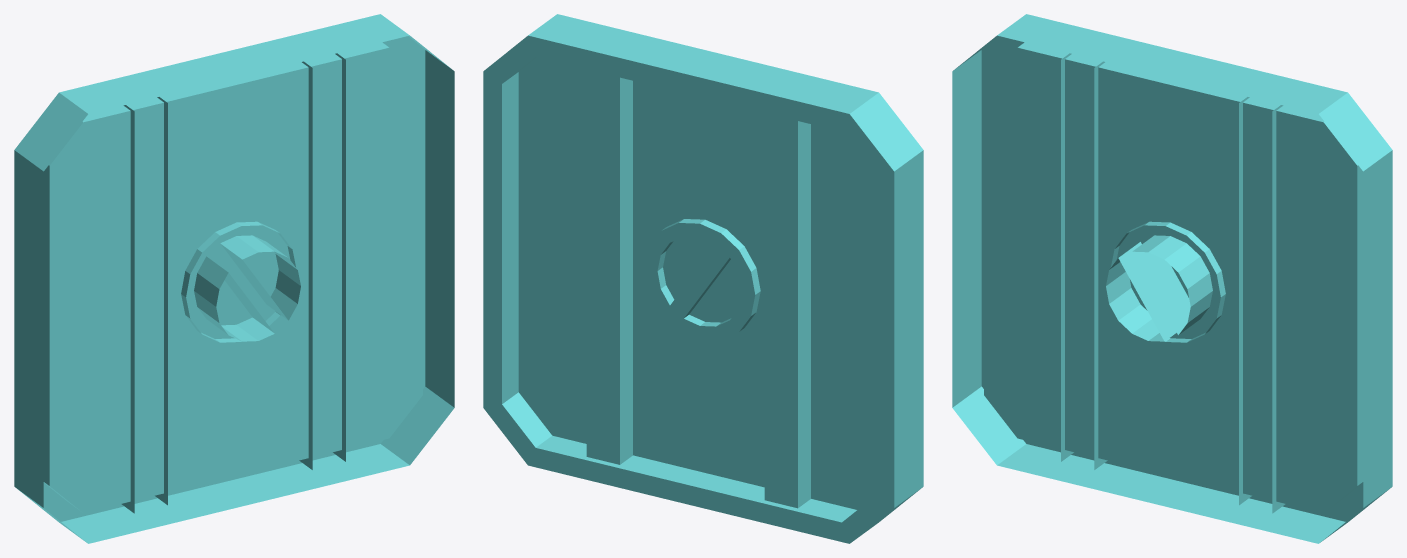
Rendered from cratefront_2m.glb.
3 renders of one model, left to right at view 1: azimuth 30°, elevation 25°; view 2: azimuth 150°, elevation 25°; view 3: azimuth 330°, elevation 25°, orthographic.
Parts seen in each view (by area): view 1: cratefront_2m; view 2: cratefront_2m; view 3: cratefront_2m.
Part boxes in pixels (x1,y1,x2,y2): cratefront_2m: (14, 14, 454, 543); cratefront_2m: (483, 14, 923, 543); cratefront_2m: (952, 14, 1392, 543).
Bounding box in the file's own units: 2 × 2 × 0.3279.
